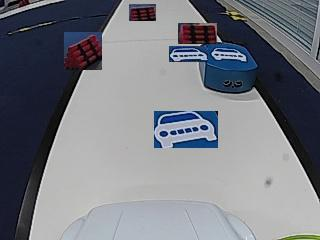safety: (211, 47, 247, 62)
